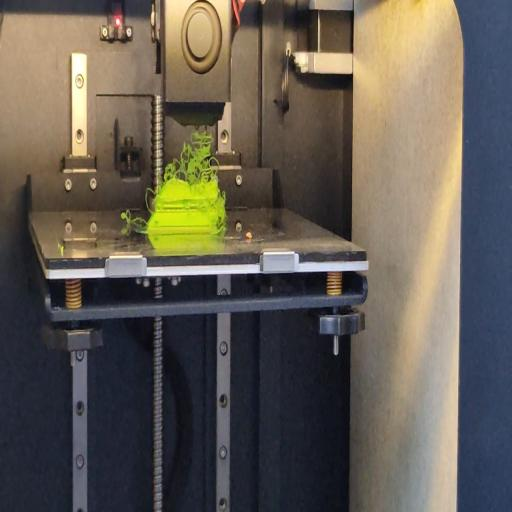spaghetti: (164, 127, 219, 187), (120, 208, 144, 228), (145, 186, 154, 215), (219, 223, 226, 234)
